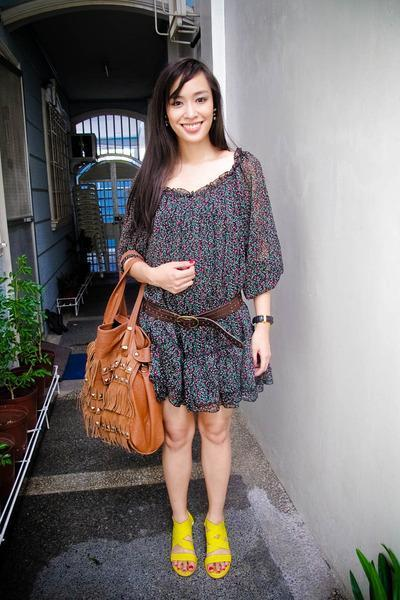bag: (74, 271, 171, 458)
dress: (128, 165, 283, 410)
shoe: (171, 516, 230, 577)
